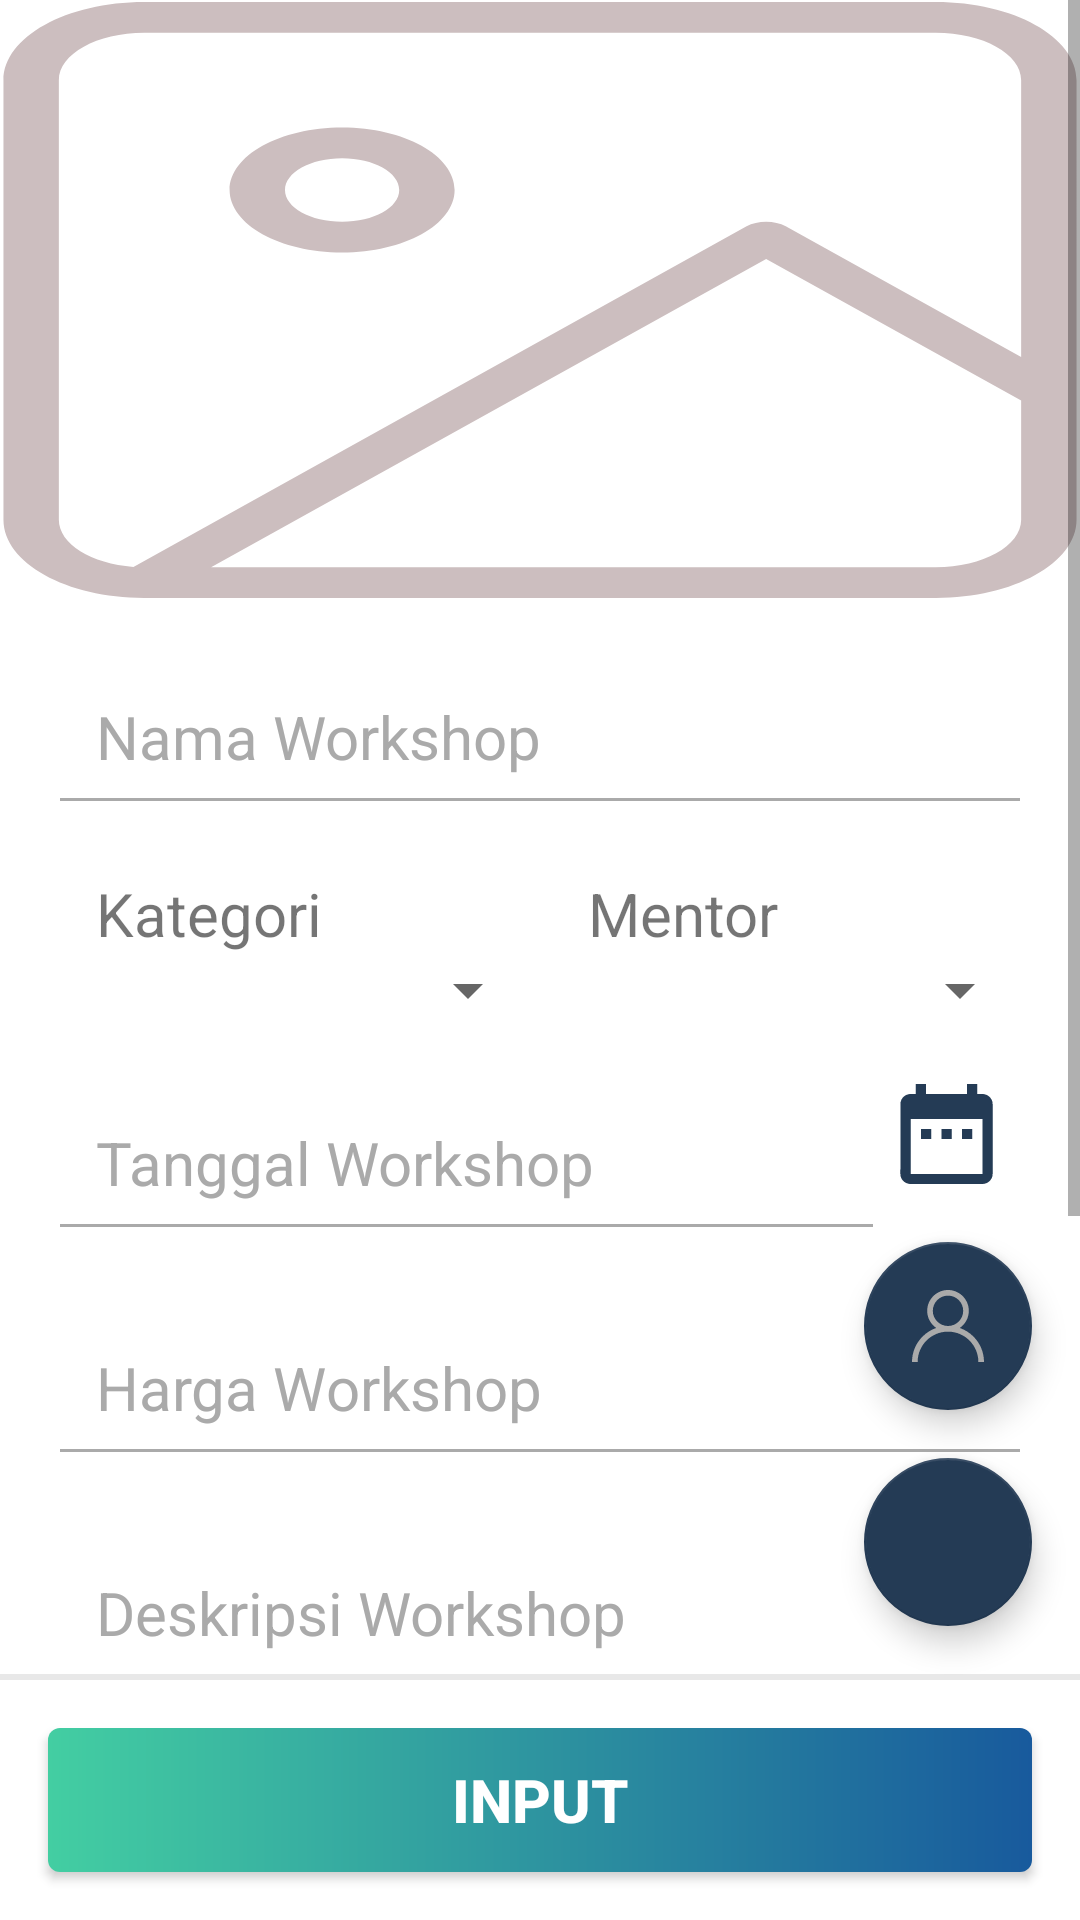

Named icons in this screenshot (1080x1920) and their bounding boxes, (x1, y1, x2, y2):
date range: (900, 1084, 993, 1184)
user: (864, 1242, 1032, 1410)
